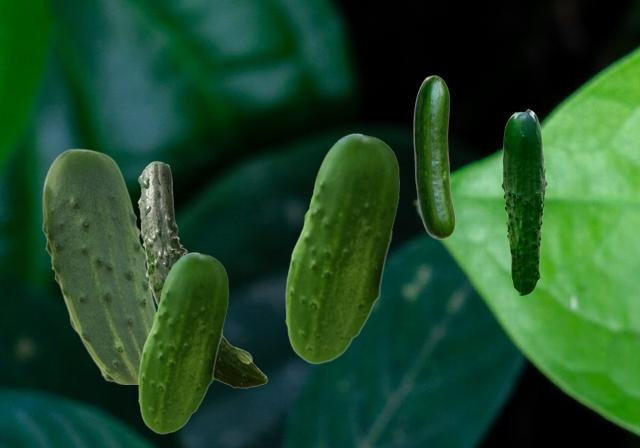cucumber: (137, 161, 266, 387), (42, 148, 156, 383), (285, 133, 398, 363), (138, 252, 227, 433), (501, 109, 546, 295), (413, 75, 454, 238)
